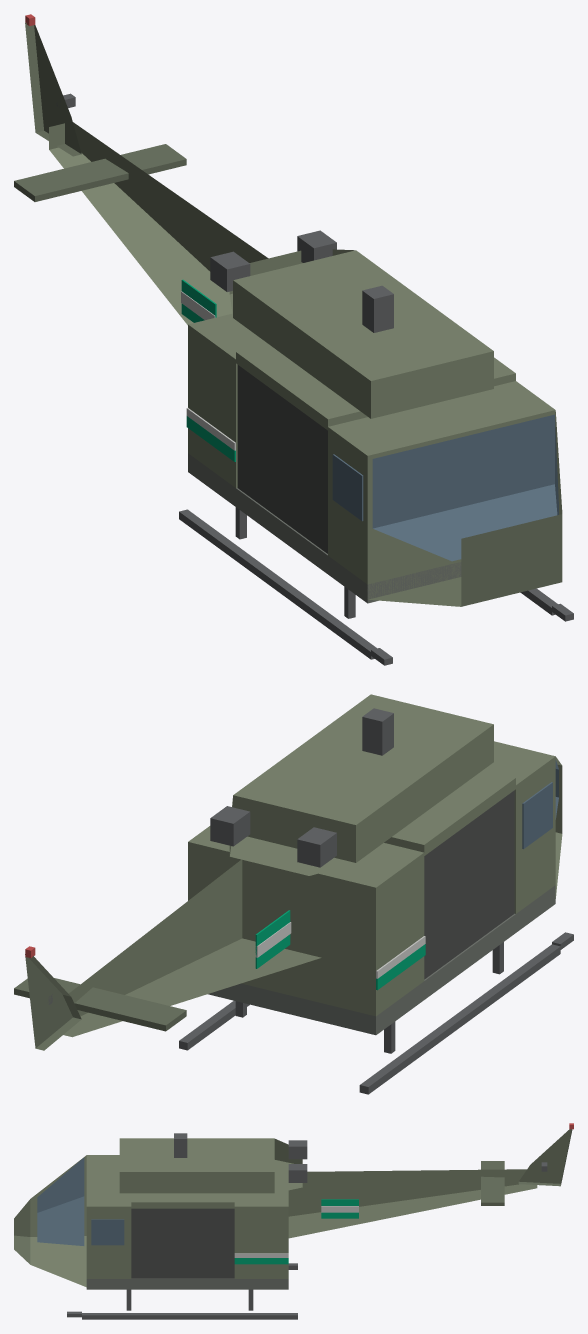
File: drop_helicopter.glb
The picture shows the model from 3 angles, top to bottom: view 1: azimuth 30°, elevation 25°; view 2: azimuth 150°, elevation 25°; view 3: azimuth 270°, elevation 25°; orthographic projection. The views are drawn at different scales.
Visible parts, largest first — view 1: drop_helicopter; view 2: drop_helicopter; view 3: drop_helicopter.
Boxes of the visible parts, x1,y1,x2,y2 form: drop_helicopter: [14, 14, 573, 665]; drop_helicopter: [14, 694, 573, 1094]; drop_helicopter: [14, 1123, 573, 1319].
Bounding box in the file's own units: 2.64 × 3.98 × 11.93.
